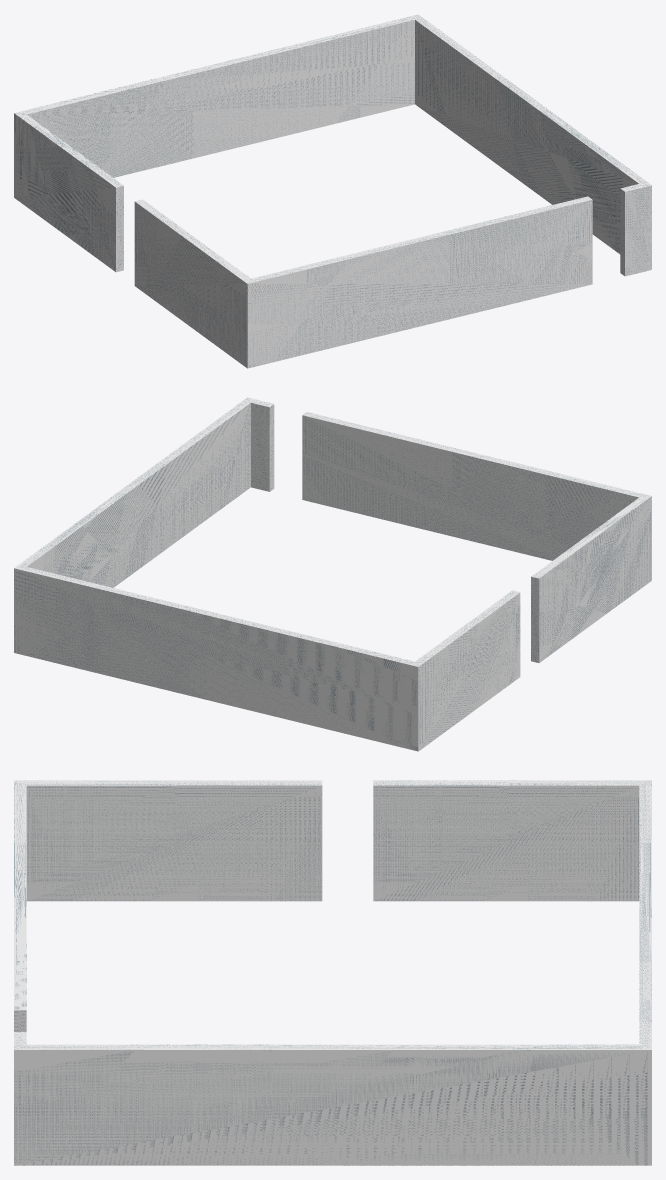
File: GenericRoom1.fbx
3 views of the same model, one above another, from view 1: azimuth 30°, elevation 25°; view 2: azimuth 150°, elevation 25°; view 3: azimuth 270°, elevation 25° (orthographic). The views are drawn at different scales.
Parts seen in each view (by area): view 1: Model; view 2: Model; view 3: Model.
Part boxes in pixels (left/top/right/bottom): Model: left=14, top=14, right=651, bottom=368; Model: left=14, top=397, right=651, bottom=751; Model: left=14, top=780, right=651, bottom=1165.
Size of the model in its own units: 10 by 2 by 10.
